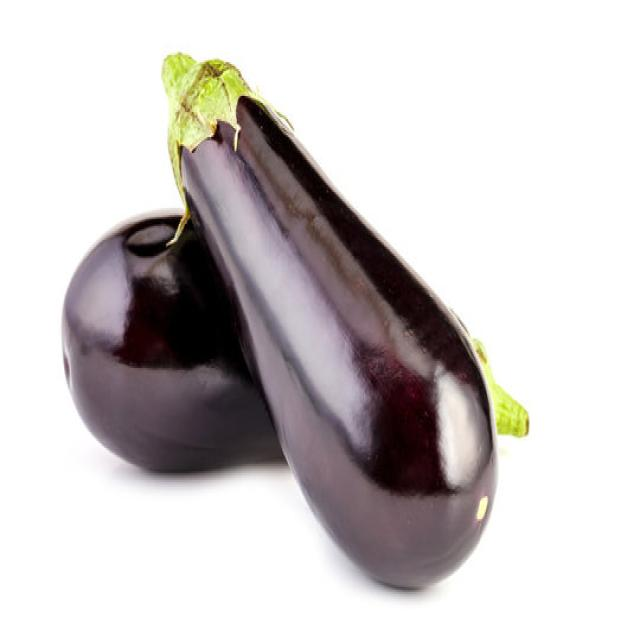Eggplant: (159, 50, 526, 588), (64, 219, 288, 487)
